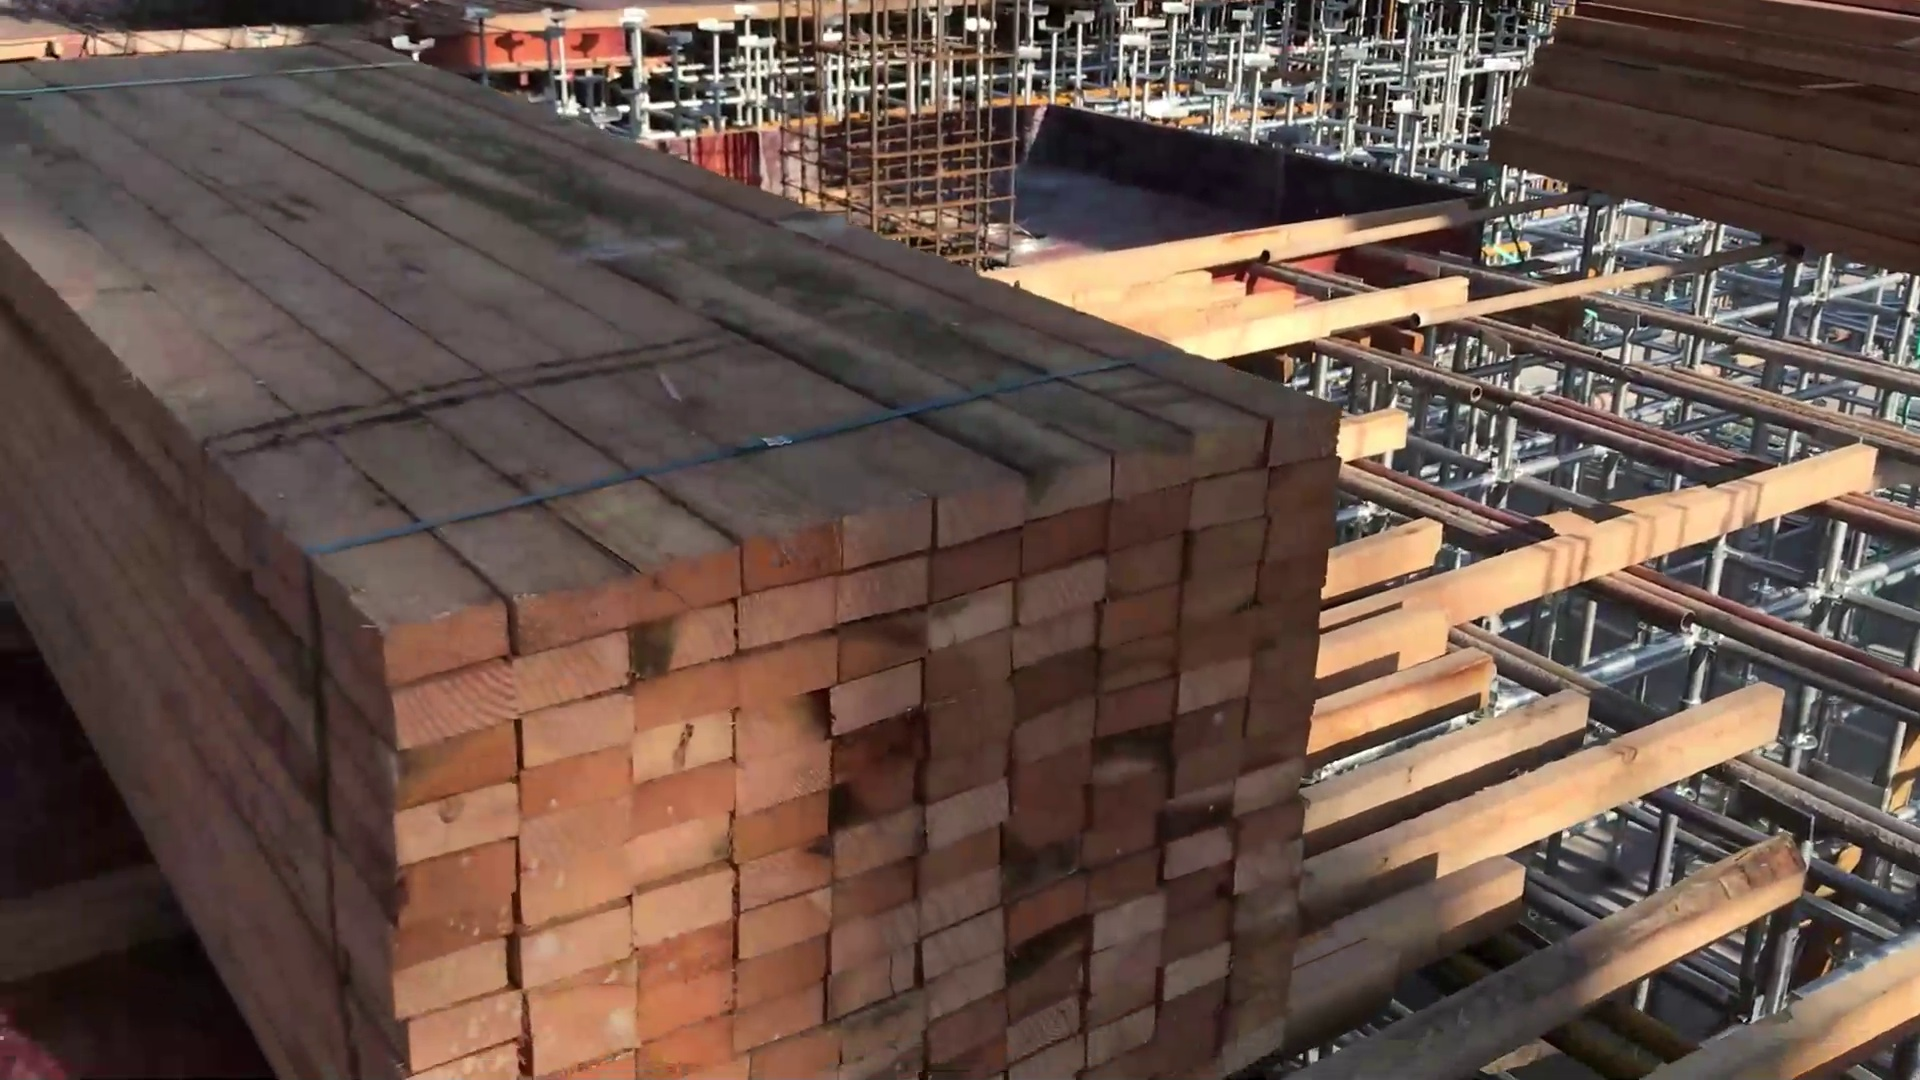wood: (1, 24, 1316, 1080)
